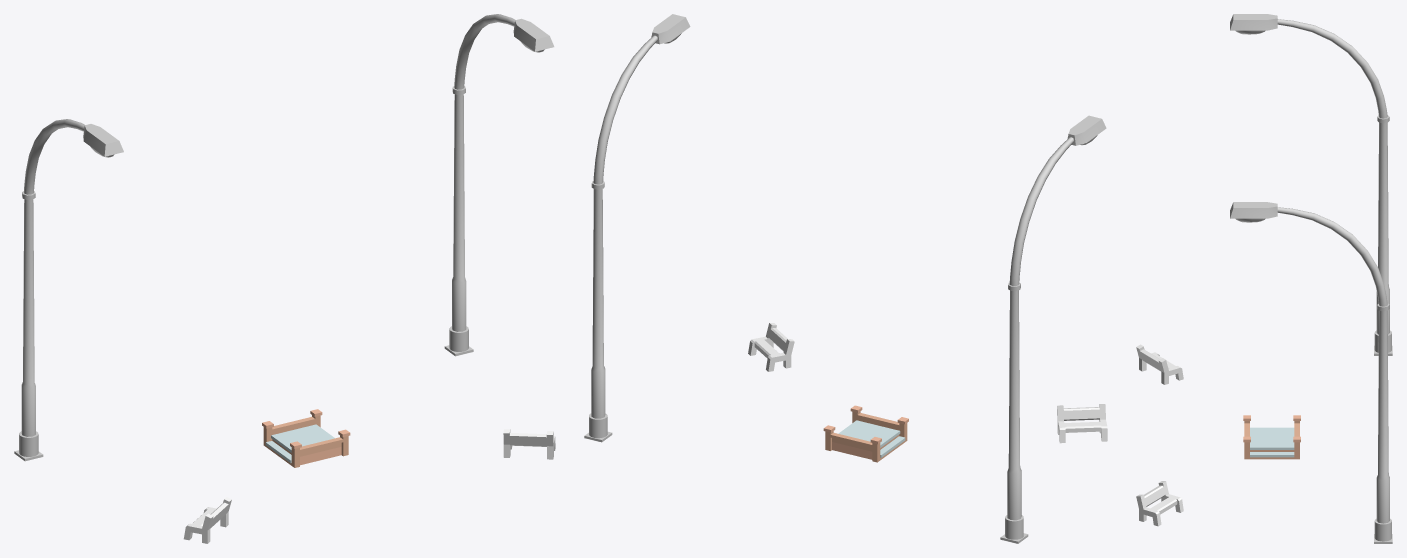
The model's file is combo-waterfront-wood-bridge.glb.
3 views of the same model, side by side, from view 1: azimuth 30°, elevation 25°; view 2: azimuth 150°, elevation 25°; view 3: azimuth 270°, elevation 25° (orthographic). The views are drawn at different scales.
Parts seen in each view (by area): view 1: asset-075_5, asset-075_7, asset-092_0, asset-092_2, asset-007_3, asset-007_4, asset-092_1; view 2: asset-075_7, asset-075_5, asset-007_3, asset-092_0, asset-007_4, asset-092_2, asset-092_1; view 3: asset-075_7, asset-075_5, asset-092_2, asset-007_4, asset-007_3, asset-092_0.
Part boxes in pixels (x1,y1,x2,y2): asset-075_5: (14, 119, 123, 461); asset-075_7: (444, 14, 554, 356); asset-092_0: (263, 415, 348, 467); asset-092_2: (265, 424, 334, 463); asset-007_3: (183, 497, 231, 543); asset-007_4: (503, 429, 555, 459); asset-092_1: (262, 409, 350, 465); asset-075_7: (584, 14, 690, 442); asset-075_5: (1000, 115, 1106, 543); asset-007_3: (1057, 404, 1107, 443); asset-092_0: (825, 411, 907, 462); asset-007_4: (748, 322, 794, 371); asset-092_2: (838, 420, 905, 457); asset-092_1: (823, 405, 908, 459); asset-075_7: (1230, 202, 1392, 543); asset-075_5: (1230, 14, 1392, 355); asset-092_2: (1250, 427, 1294, 457); asset-007_4: (1136, 481, 1183, 526); asset-007_3: (1136, 344, 1183, 384); asset-092_0: (1244, 421, 1299, 459).
Bounding box in the file's own units: 8.36 × 6.68 × 4.61.
